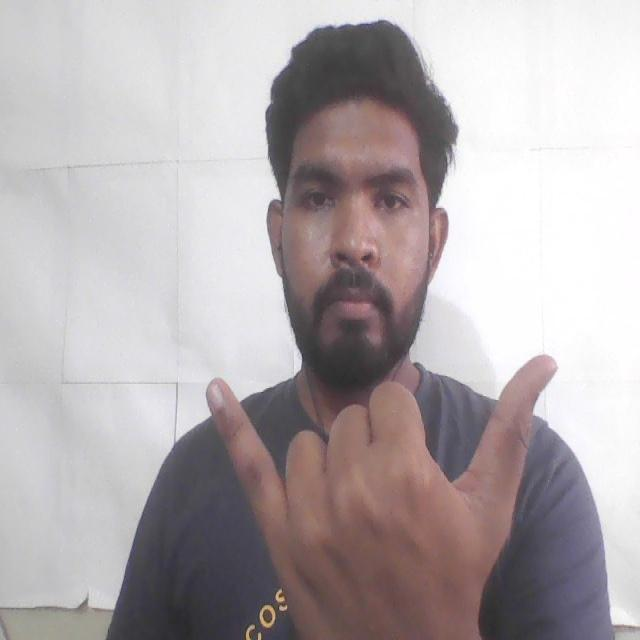Thanks: (193, 344, 564, 640)
